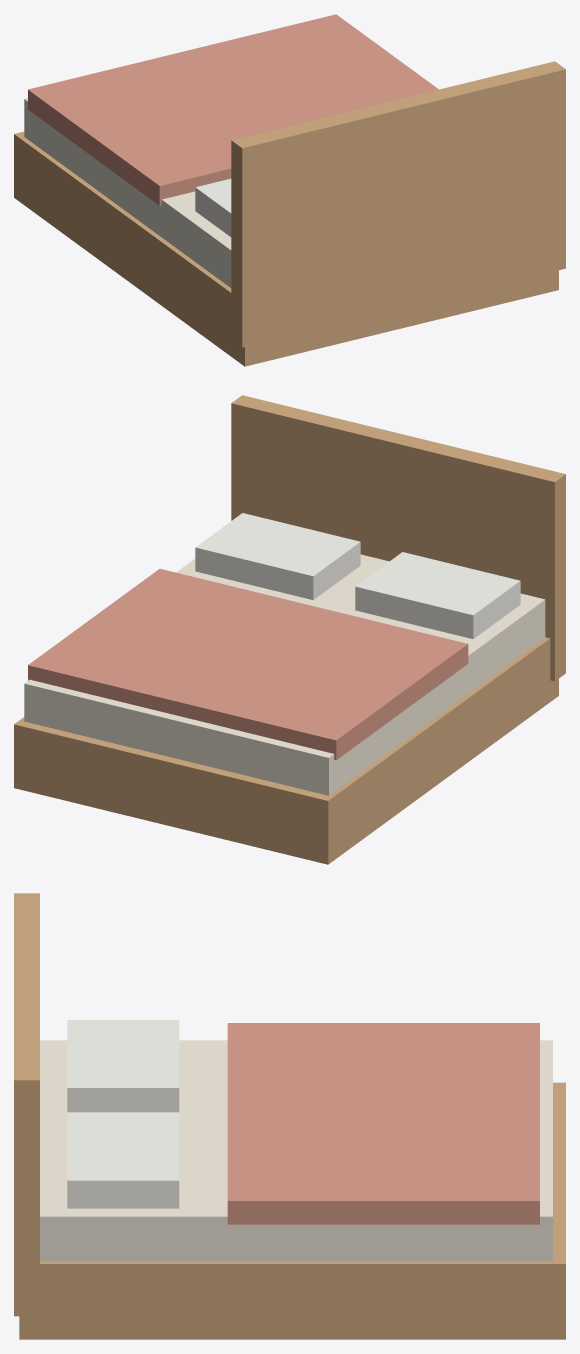
Rendered from double-bed.glb.
3 views of the same model, one above another, from view 1: azimuth 30°, elevation 25°; view 2: azimuth 150°, elevation 25°; view 3: azimuth 270°, elevation 25° (orthographic). The views are drawn at different scales.
Size of the model in its own units: 1.7 by 1.11 by 2.12.
